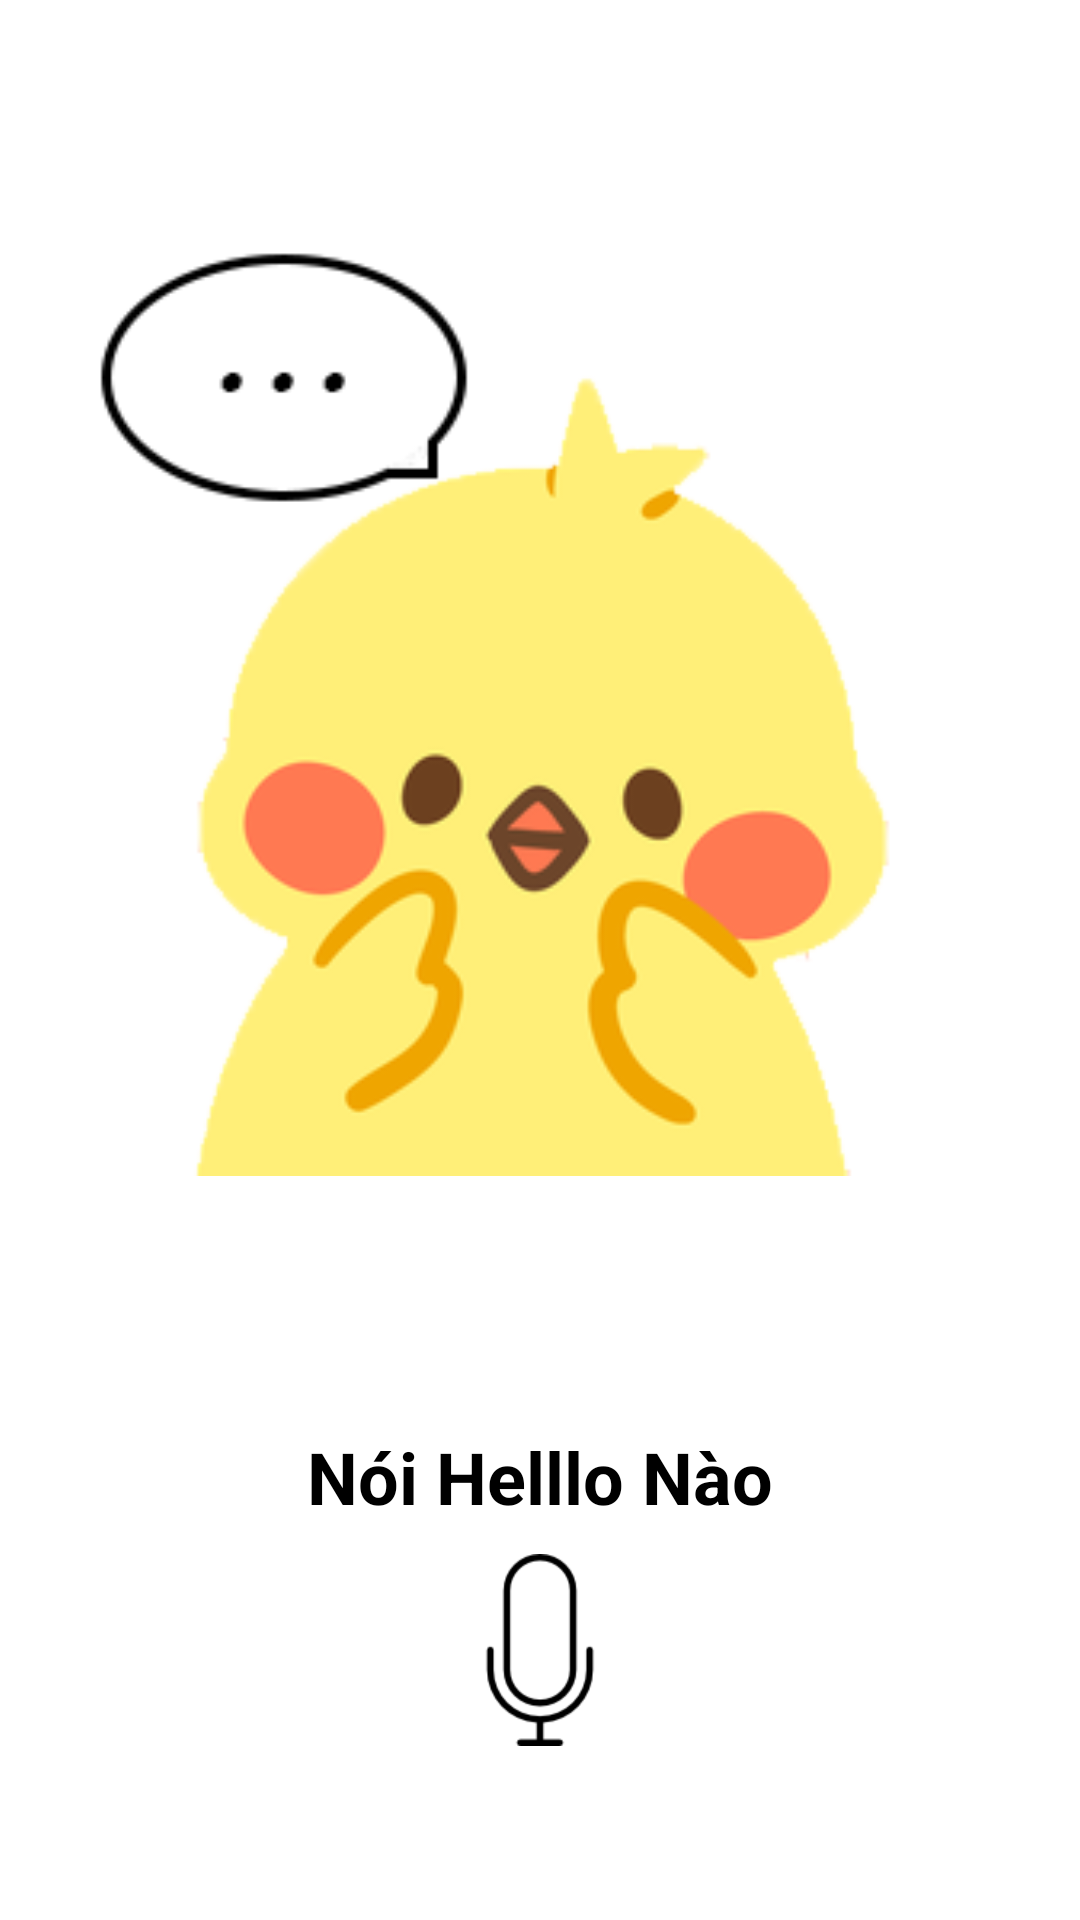

Locate icon controls on the screen. Image size 1080*1920, boxes as (x1, y1, x2, y2).
microphone: (486, 1554, 594, 1746)
